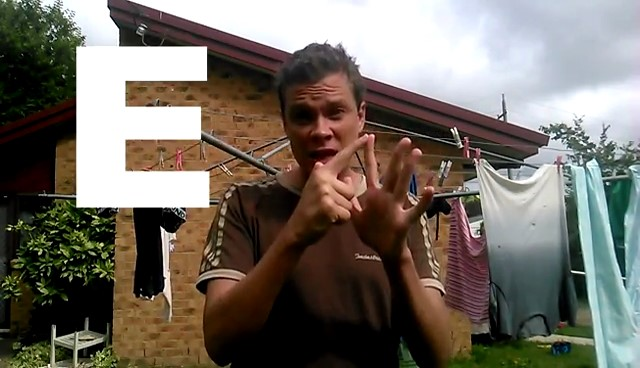E: (290, 129, 437, 252)
